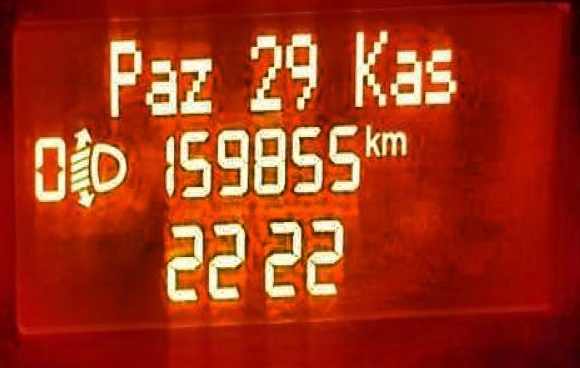0: (32, 132, 66, 203)
1: (163, 128, 174, 200)
2: (163, 220, 203, 301), (205, 220, 245, 300), (262, 216, 300, 295), (306, 215, 342, 295), (249, 30, 283, 108)
5: (177, 128, 210, 197), (326, 123, 359, 192), (291, 125, 321, 196)
8: (252, 125, 286, 196)
9: (285, 30, 317, 108), (215, 123, 246, 198)
X: (355, 21, 387, 110), (105, 35, 137, 118), (179, 50, 214, 115), (423, 43, 456, 108), (143, 52, 176, 117), (391, 46, 421, 105), (381, 128, 406, 158), (364, 120, 379, 158)
